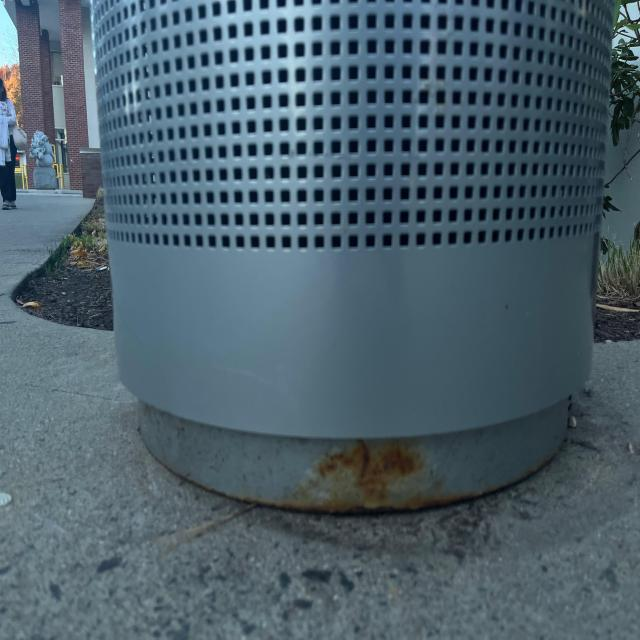Uniform Corrosion: (318, 441, 421, 509)
